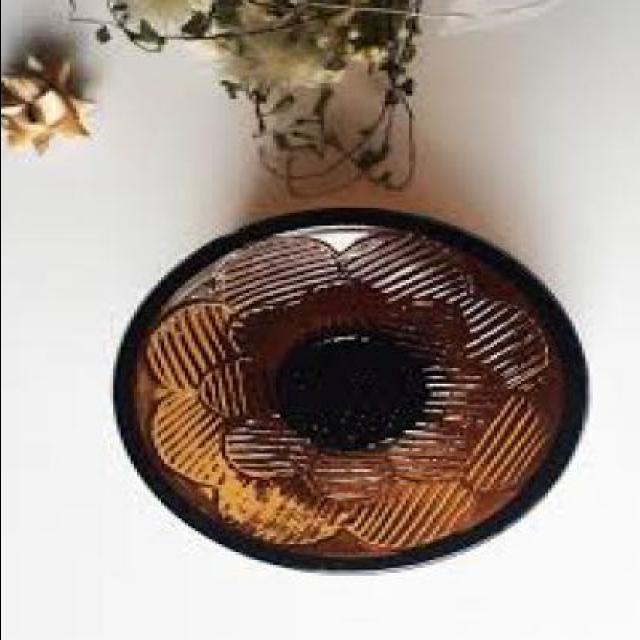kaca: (109, 203, 584, 576)
